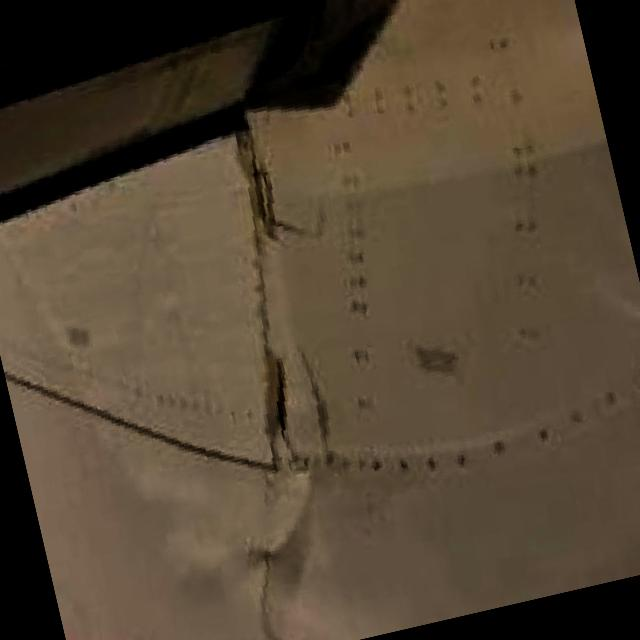dent: (146, 460, 334, 634), (246, 352, 330, 460)
